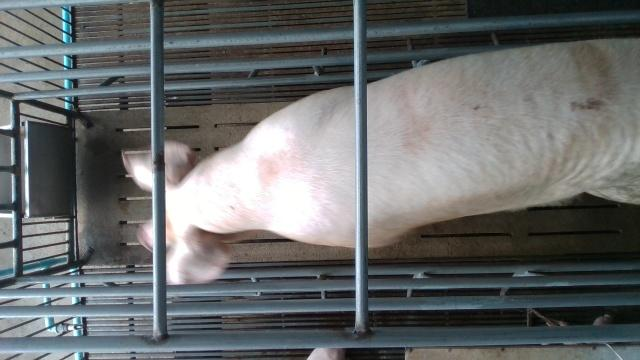sow-stand: (122, 40, 640, 284)
